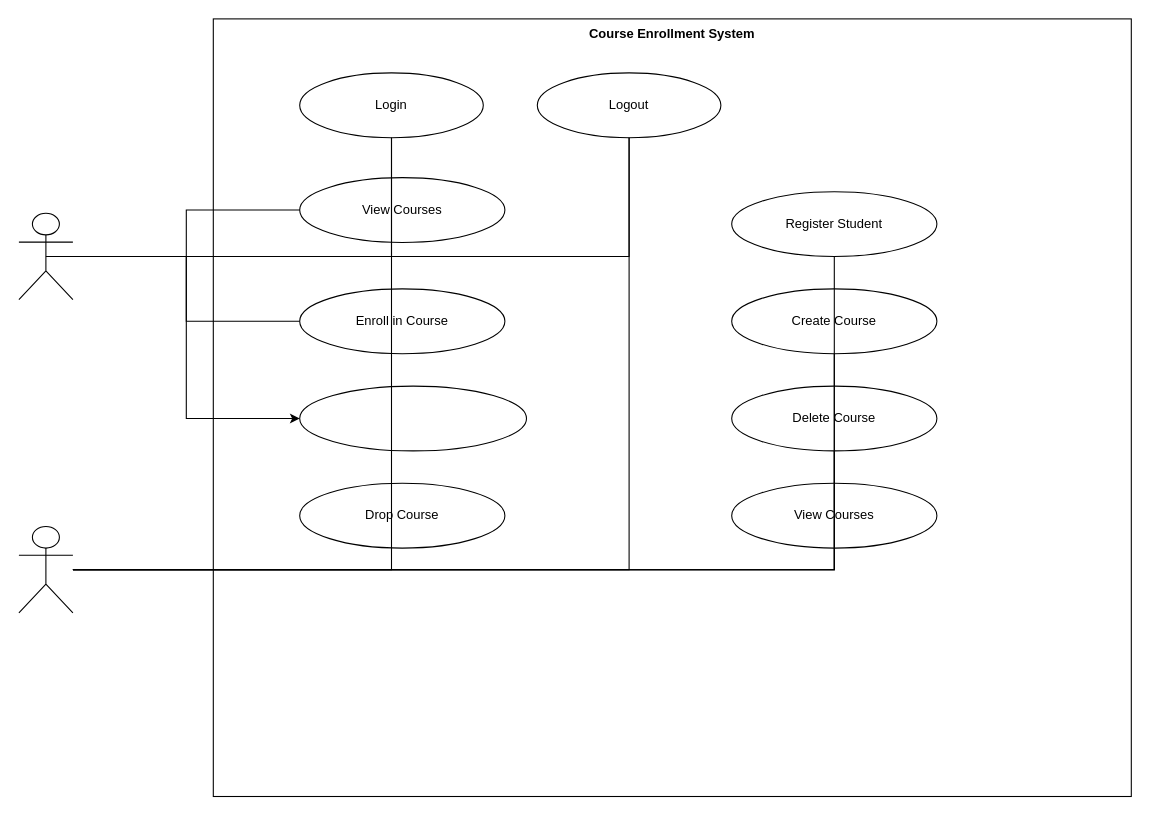
Some shapes in this 1150 by 815 pixel diagram are drawn without their labels. Each missing label, with the box of its shape:
Admin: (18, 525, 73, 613)
Student: (18, 212, 73, 300)
View Enrolled Courses: (299, 385, 526, 451)
